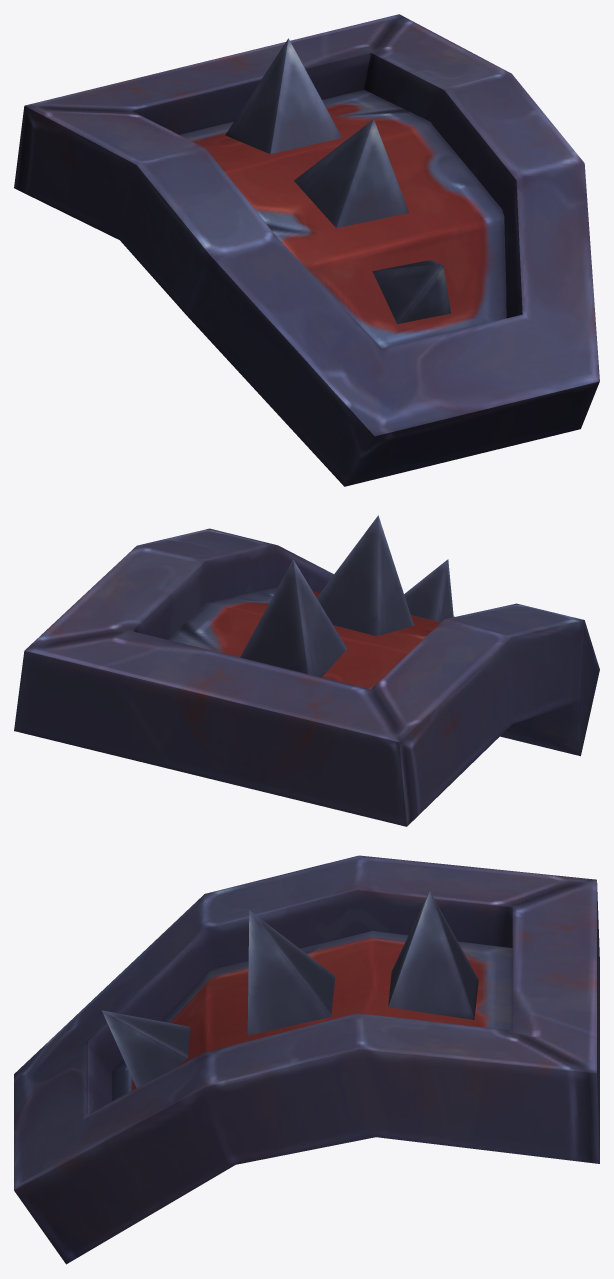
Rendered from armor_red_02.fbx.
The picture shows the model from 3 angles, top to bottom: view 1: azimuth 30°, elevation 25°; view 2: azimuth 150°, elevation 25°; view 3: azimuth 270°, elevation 25°; orthographic projection. The views are drawn at different scales.
Parts seen in each view (by area): view 1: armor_red_02; view 2: armor_red_02; view 3: armor_red_02.
Part boxes in pixels (bbox=[...]): armor_red_02: bbox=[14, 14, 599, 486]; armor_red_02: bbox=[14, 515, 599, 826]; armor_red_02: bbox=[14, 855, 599, 1264].
Size of the model in its own units: 0.6013 by 0.4309 by 0.7339.
